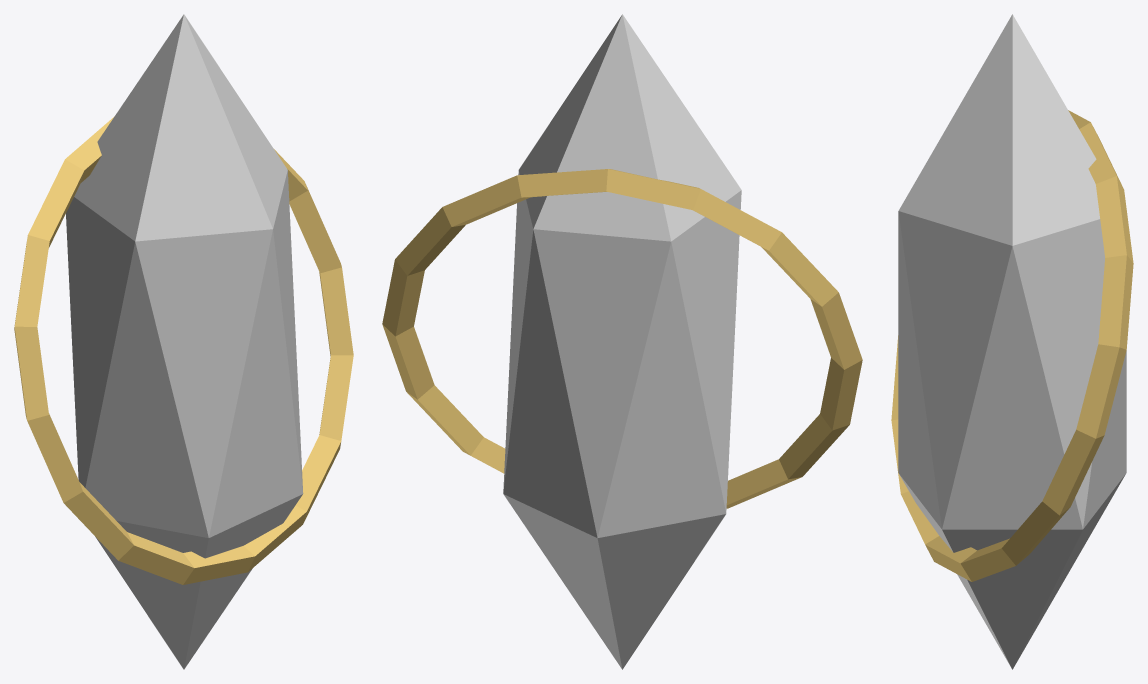
Rendered from SM_AnchorFragment.fbx.
The picture shows the model from 3 angles, left to right: view 1: azimuth 30°, elevation 25°; view 2: azimuth 150°, elevation 25°; view 3: azimuth 270°, elevation 25°; orthographic projection.
Parts seen in each view (by area): view 1: SM_AnchorFragment; view 2: SM_AnchorFragment; view 3: SM_AnchorFragment.
Boxes of the visible parts, x1,y1,x2,y2 form: SM_AnchorFragment: (14,14,353,669); SM_AnchorFragment: (382,14,862,669); SM_AnchorFragment: (891,14,1133,669).
Size of the model in its own units: 34.2 by 54 by 18.07.
